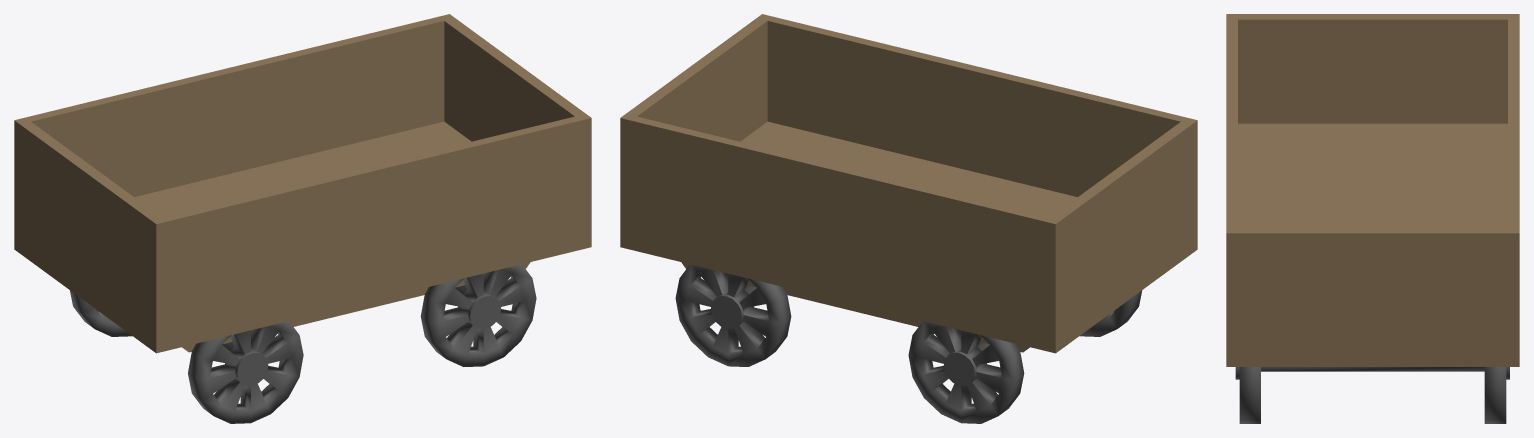
Rendered from coal_truck.obj.
3 views of the same model, side by side, from view 1: azimuth 30°, elevation 25°; view 2: azimuth 150°, elevation 25°; view 3: azimuth 270°, elevation 25° (orthographic). The views are drawn at different scales.
Visible parts, largest first — view 1: cube1, cylinder2_copy3, cylinder2; view 2: cube1, cylinder2_copy3, cylinder2; view 3: cube1, cylinder2.
Part boxes in pixels (x1,y1,x2,y2): cube1: [14, 14, 591, 353]; cylinder2_copy3: [70, 290, 303, 423]; cylinder2: [420, 264, 536, 366]; cube1: [620, 14, 1197, 353]; cylinder2_copy3: [908, 290, 1142, 423]; cylinder2: [675, 264, 791, 366]; cube1: [1226, 14, 1519, 366]; cylinder2: [1235, 367, 1509, 423].
Bounding box in the file's own units: 2.73 × 1.37 × 1.55.
